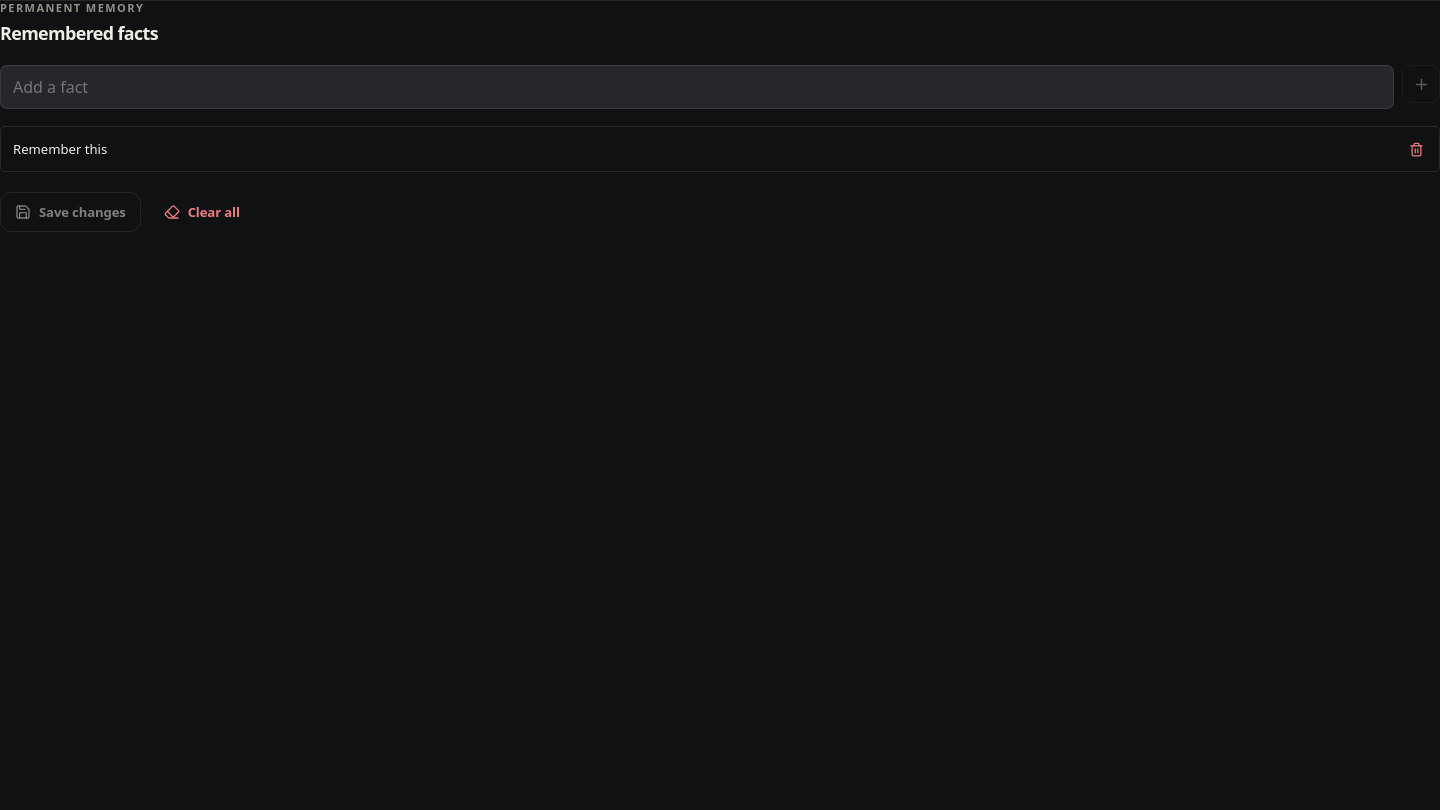
Test: MemoryPanel › asks in the app's own dialog, never window.confirm, and clears nothing on Keep
The image size is (1440, 810).
Step 1. Click the button "Clear all" → click(202, 212), box [149, 192, 255, 232]
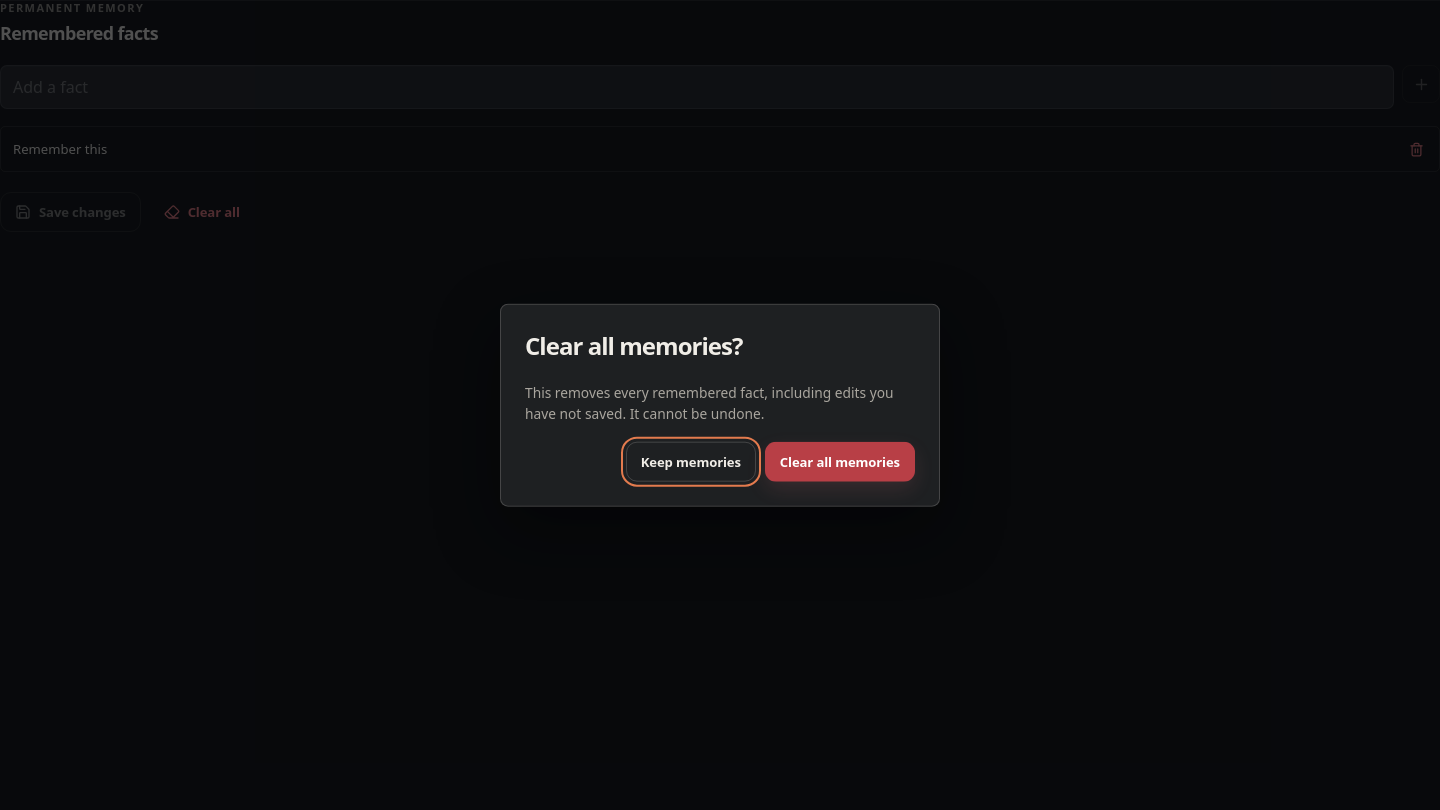
Expected: the dialog shows "Clear all memories?", [525, 329, 742, 362]
Expected: the dialog shows "It cannot be undone.", [525, 383, 894, 423]
Step 2. Click the button "Keep memories" → click(691, 461), box [626, 441, 756, 481]
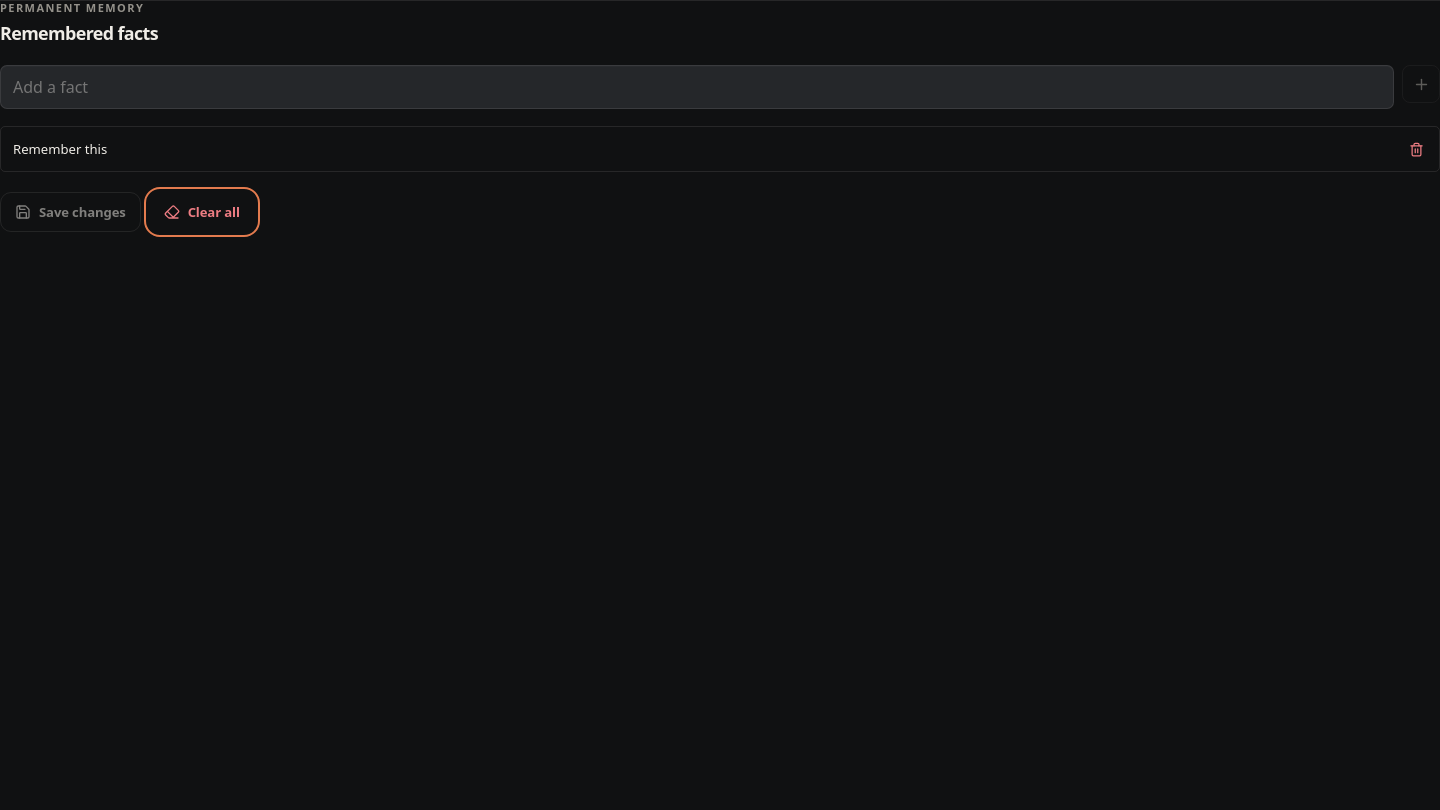
Expected: the field named "Memory 1" holds "Remember this", [9, 136, 1394, 163]
Expected: the dialog is gone
